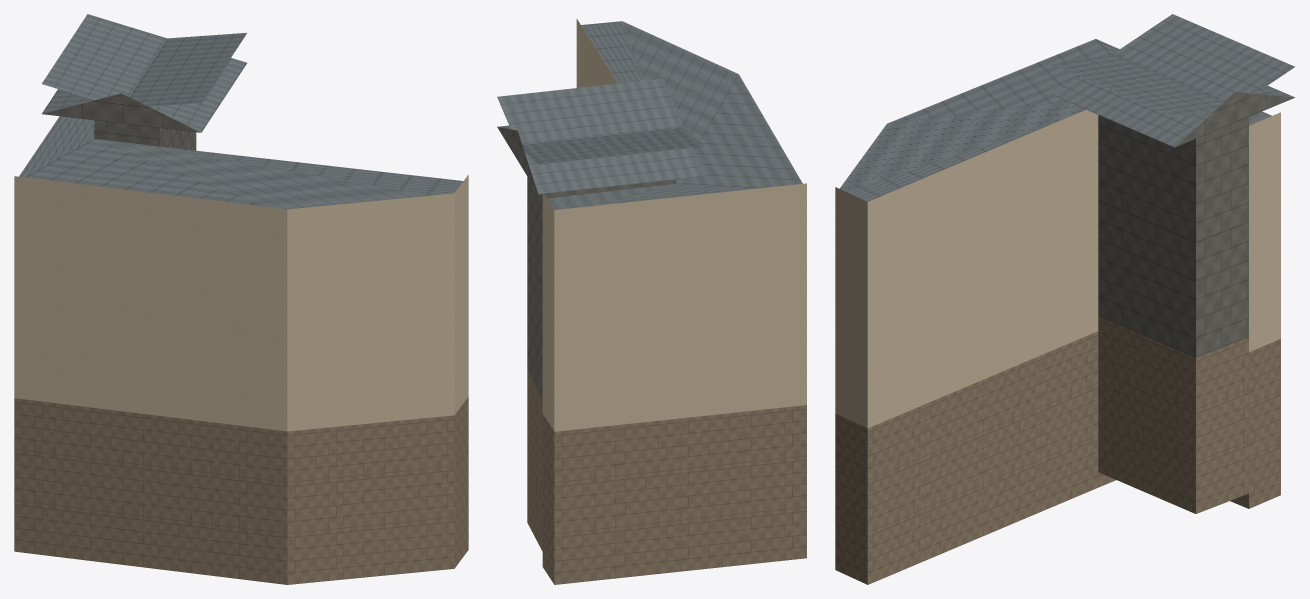
The model's file is bld_c20_30_372.gltf.
3 renders of one model, left to right at view 1: azimuth 30°, elevation 25°; view 2: azimuth 150°, elevation 25°; view 3: azimuth 270°, elevation 25°, orthographic. The views are drawn at different scales.
Visible parts, largest first — view 1: bld_c20_30_372; view 2: bld_c20_30_372; view 3: bld_c20_30_372.
Part boxes in pixels (x1,y1,x2,y2): bld_c20_30_372: [14, 14, 468, 584]; bld_c20_30_372: [497, 19, 806, 584]; bld_c20_30_372: [835, 14, 1294, 584].
Size of the model in its own units: 11.91 by 14.1 by 13.59.
6 materials, 6 textured.
